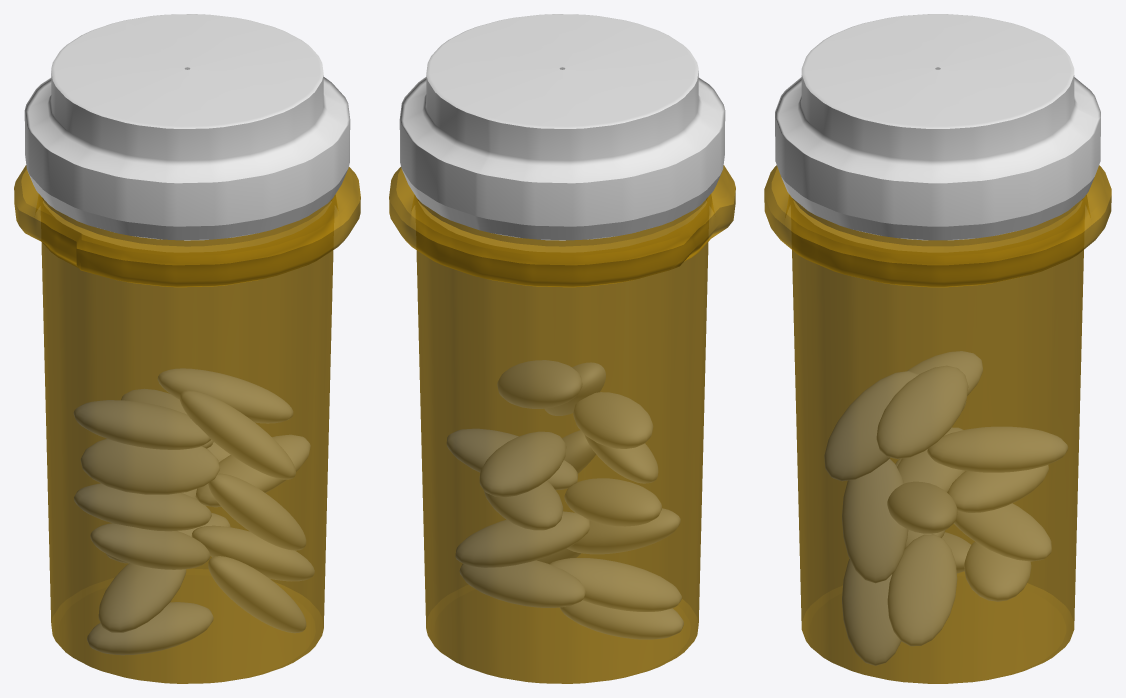
File: pill.fbx
The picture shows the model from 3 angles, left to right: view 1: azimuth 30°, elevation 25°; view 2: azimuth 150°, elevation 25°; view 3: azimuth 270°, elevation 25°; orthographic projection.
Parts seen in each view (by area): view 1: polySurface1, polySurface2, pSphere13, pSphere12, pSphere14, pSphere7, pSphere1, pSphere8, pSphere3, pSphere2, pSphere9, pSphere11 (+3 smaller); view 2: polySurface1, polySurface2, pSphere10, pSphere1, pSphere5, pSphere16, pSphere7, pSphere12, pSphere11, pSphere2, pSphere8, pSphere15 (+4 smaller); view 3: polySurface1, polySurface2, pSphere4, pSphere11, pSphere9, pSphere16, pSphere14, pSphere3, pSphere10, pSphere15, pSphere6, pSphere5 (+3 smaller).
Boxes of the visible parts, <box> form: polySurface1: <box>14,165,360,683</box>; polySurface2: <box>24,14,350,240</box>; pSphere13: <box>81,439,219,494</box>; pSphere12: <box>74,400,210,449</box>; pSphere14: <box>180,390,295,479</box>; pSphere7: <box>74,483,211,530</box>; pSphere1: <box>99,563,185,632</box>; pSphere8: <box>90,523,209,569</box>; pSphere3: <box>208,556,305,632</box>; pSphere2: <box>87,602,213,654</box>; pSphere9: <box>208,473,305,550</box>; pSphere11: <box>158,368,292,423</box>; polySurface1: <box>389,165,735,683</box>; polySurface2: <box>399,14,725,240</box>; pSphere10: <box>455,511,589,567</box>; pSphere1: <box>550,558,681,611</box>; pSphere5: <box>460,560,585,607</box>; pSphere16: <box>480,432,565,496</box>; pSphere7: <box>564,478,661,526</box>; pSphere12: <box>573,392,652,448</box>; pSphere11: <box>497,360,582,408</box>; pSphere2: <box>560,600,683,639</box>; pSphere8: <box>567,508,680,553</box>; pSphere15: <box>484,481,562,529</box>; polySurface1: <box>764,165,1111,683</box>; polySurface2: <box>775,14,1100,240</box>; pSphere4: <box>888,534,956,645</box>; pSphere11: <box>877,366,967,458</box>; pSphere9: <box>842,459,907,582</box>; pSphere16: <box>927,427,1067,472</box>; pSphere14: <box>824,371,918,480</box>; pSphere3: <box>842,559,900,665</box>; pSphere10: <box>954,503,1051,561</box>; pSphere15: <box>947,465,1048,512</box>; pSphere6: <box>887,482,957,533</box>; pSphere5: <box>964,542,1030,601</box>.
Bounding box in the file's own units: 5.09 × 9.23 × 5.18.
